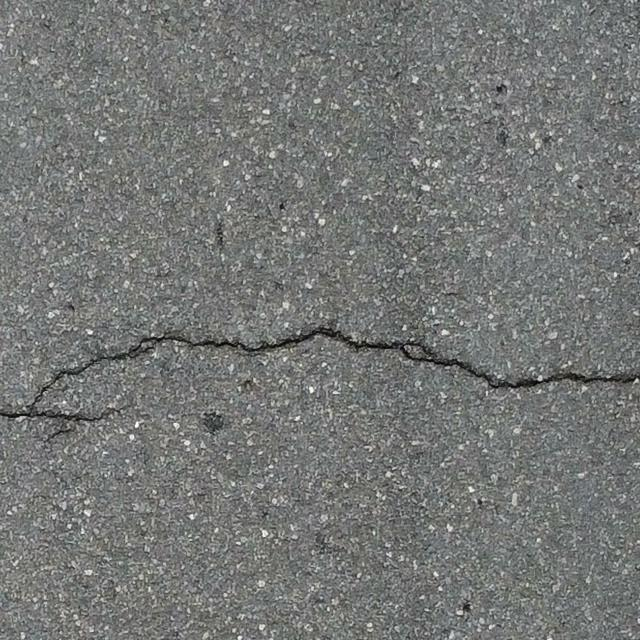TransverseCrack: (1, 327, 640, 419)
